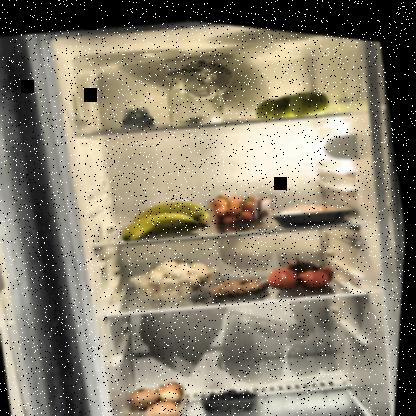apple: (249, 70, 334, 122)
banana: (116, 185, 218, 248)
blueberries: (202, 372, 268, 413)
mushrooms: (131, 240, 234, 306)
onion: (129, 370, 193, 415)
shrimp: (209, 263, 270, 300)
strawberries: (211, 179, 282, 226)
tomato: (263, 238, 344, 295)
